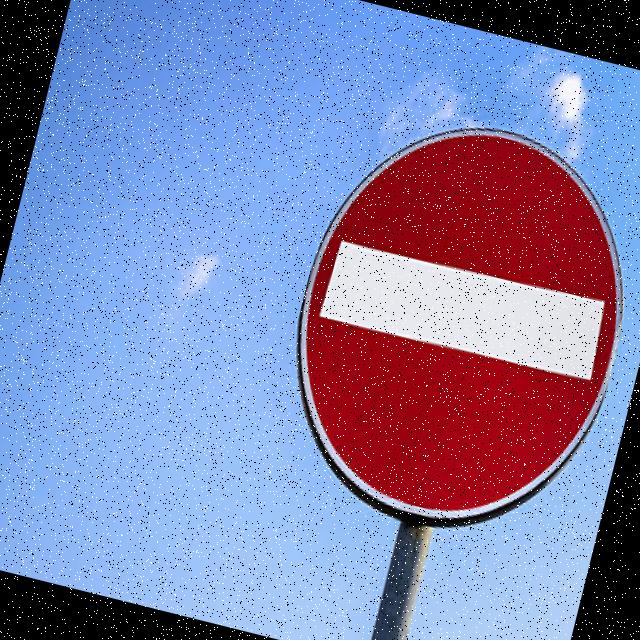do_not_enter: (243, 75, 640, 579)
